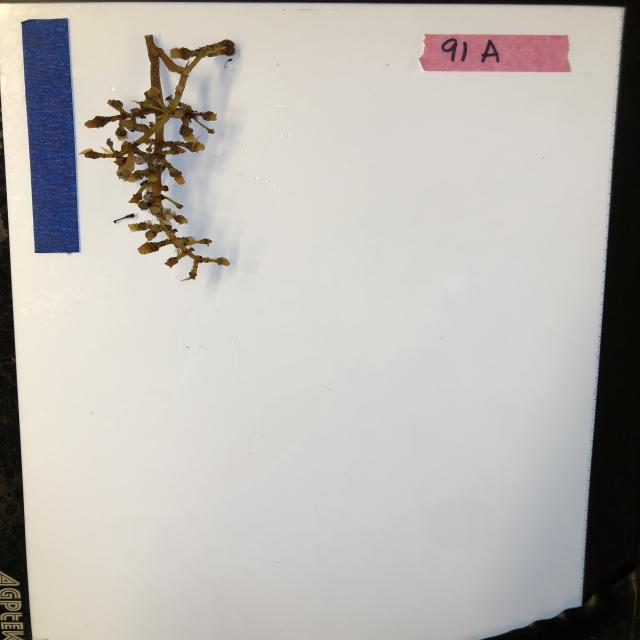index: (421, 33, 574, 72)
measure_label: (21, 17, 82, 254)
rachis_cluster: (81, 33, 238, 281)
